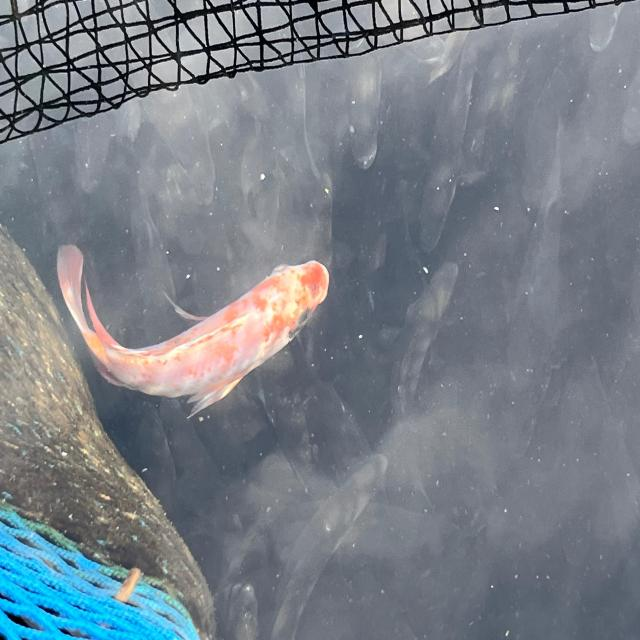ikan: (56, 241, 330, 421)
